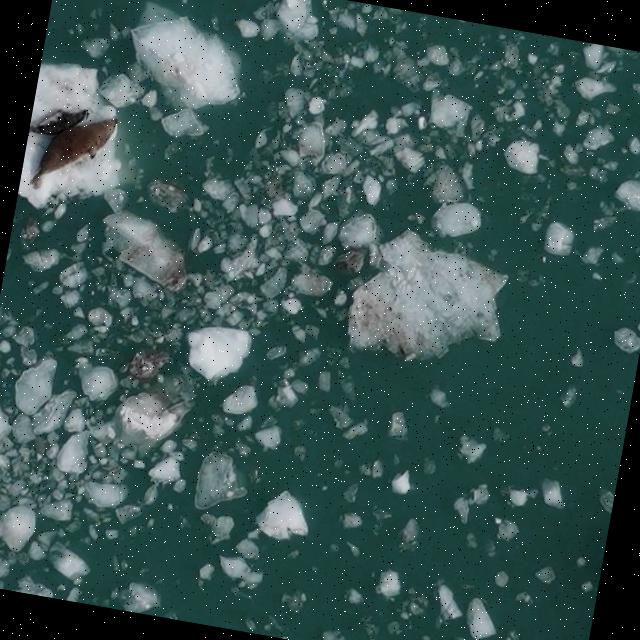seal: (30, 116, 118, 187), (28, 109, 86, 136)
